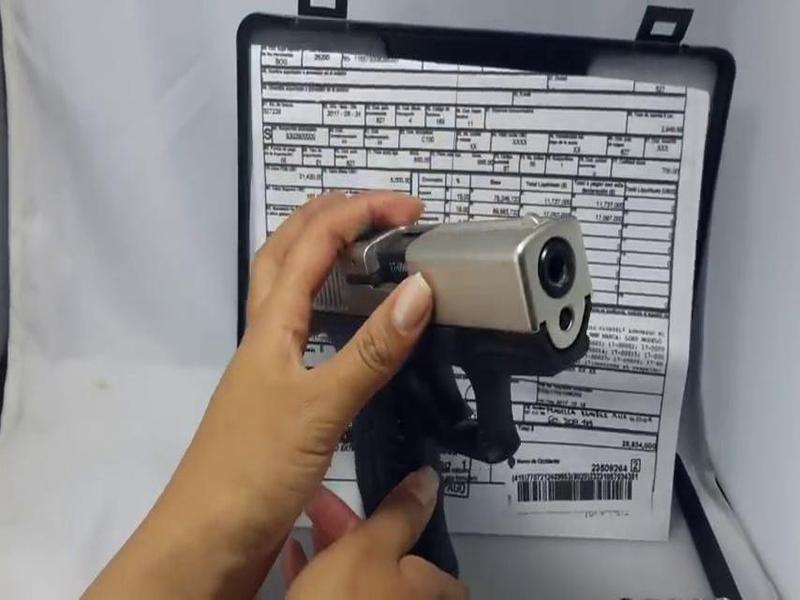Pistola: (248, 190, 604, 586)
